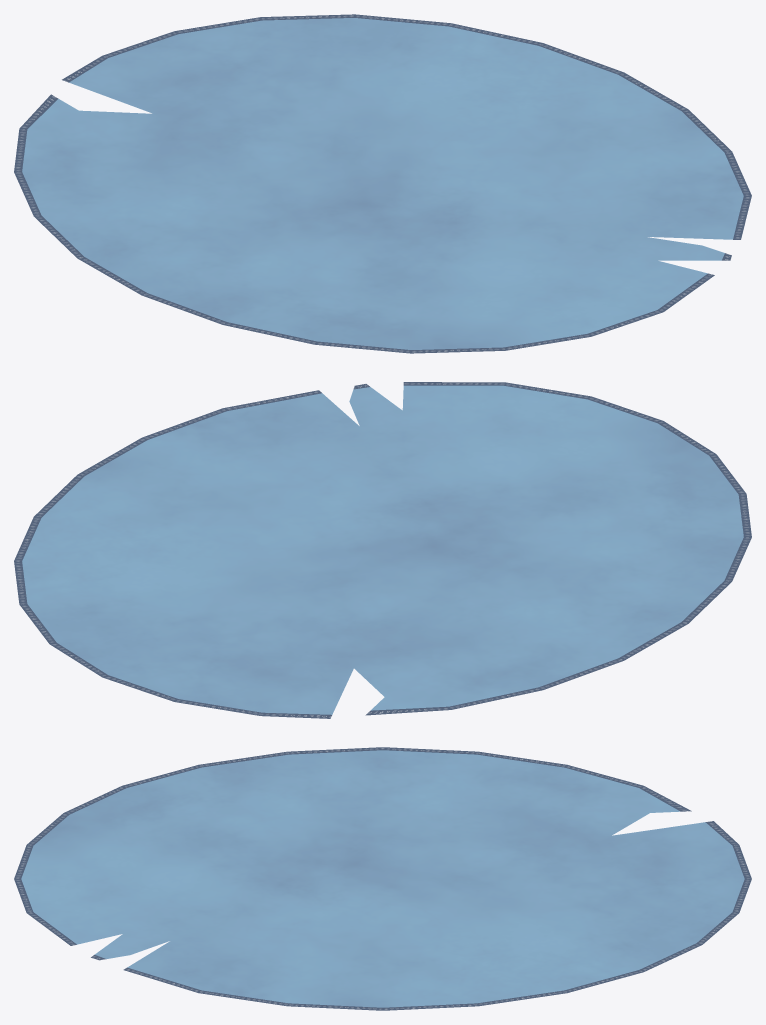
Rendered from Teppich_06.fbx.
The picture shows the model from 3 angles, top to bottom: view 1: azimuth 30°, elevation 25°; view 2: azimuth 150°, elevation 25°; view 3: azimuth 270°, elevation 25°; orthographic projection. The views are drawn at different scales.
Parts seen in each view (by area): view 1: Teppich_06; view 2: Teppich_06; view 3: Teppich_06.
Boxes of the visible parts, x1,y1,x2,y2 form: Teppich_06: (14,14,751,353); Teppich_06: (14,382,751,718); Teppich_06: (14,747,751,1010).
Size of the model in its own units: 3.38 by 5.59e-09 by 4.
